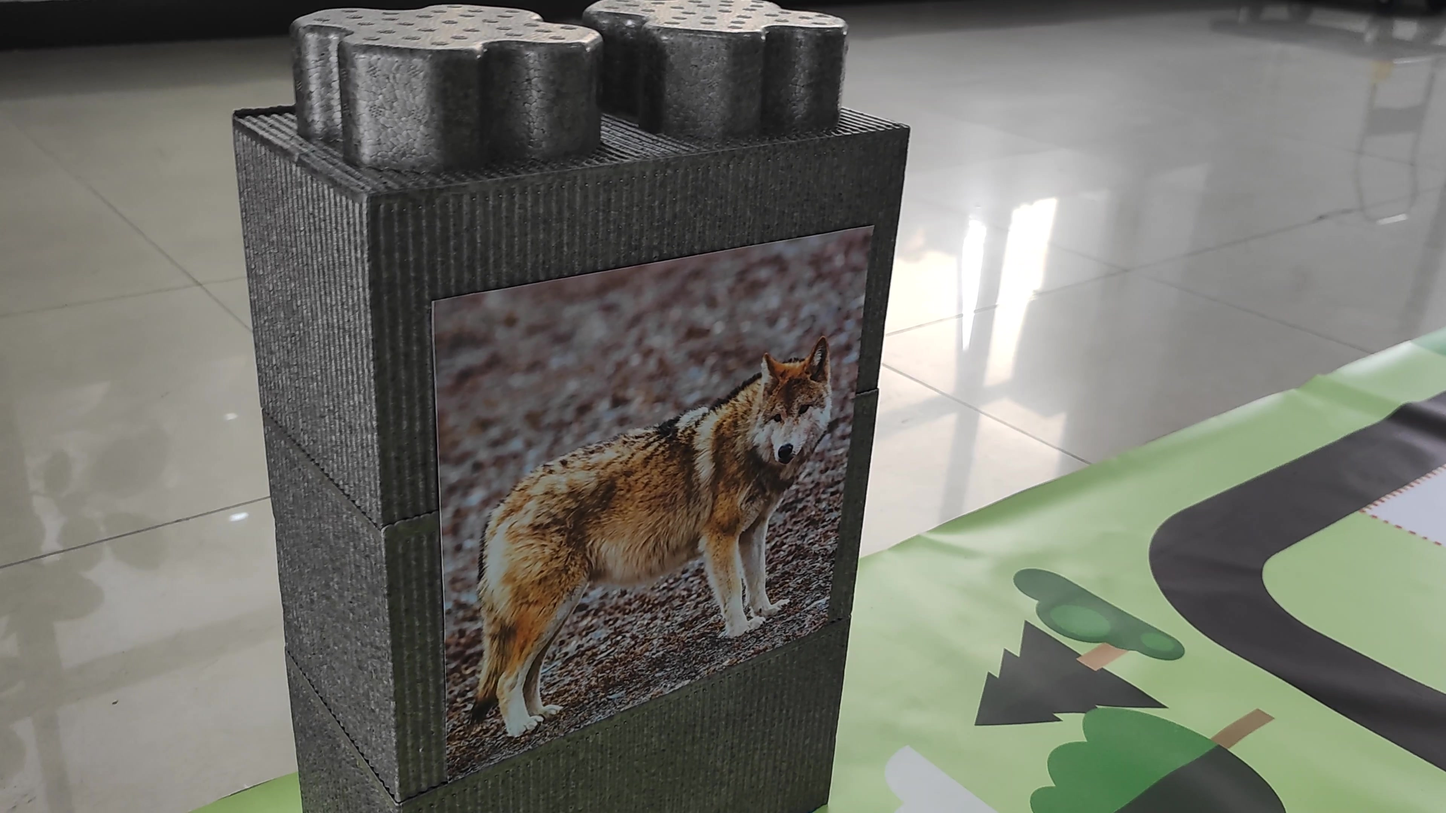wolf: (485, 299, 856, 667)
